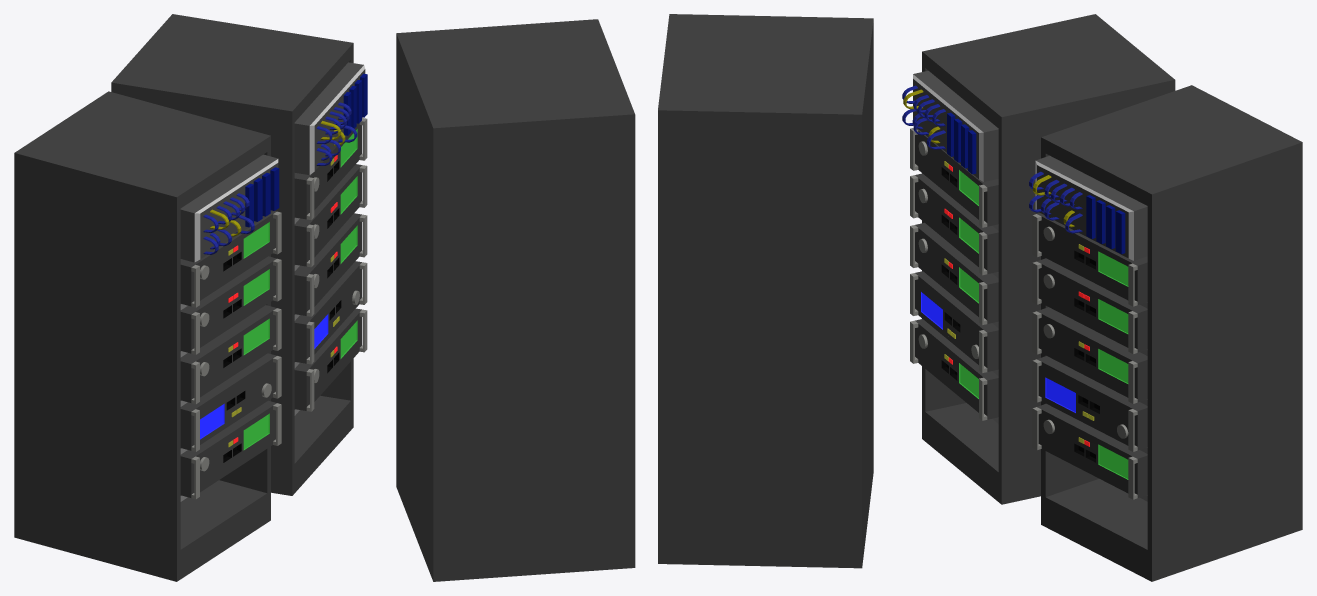
The model's file is server_racks.gltf.
The picture shows the model from 3 angles, left to right: view 1: azimuth 30°, elevation 25°; view 2: azimuth 150°, elevation 25°; view 3: azimuth 270°, elevation 25°; orthographic projection. The views are drawn at different scales.
Visible parts, largest first — view 1: Server Rack.003, Server Rack.004; view 2: Server Rack.004, Server Rack.003; view 3: Server Rack.004, Server Rack.003.
Boxes of the visible parts, x1,y1,x2,y2 form: Server Rack.003: (14,91,281,581); Server Rack.004: (111,14,367,495); Server Rack.004: (396,19,635,581); Server Rack.003: (658,14,873,568); Server Rack.004: (1029,85,1302,581); Server Rack.003: (902,14,1175,504).
Size of the model in its own units: 0.433 by 0.4283 by 0.401.
